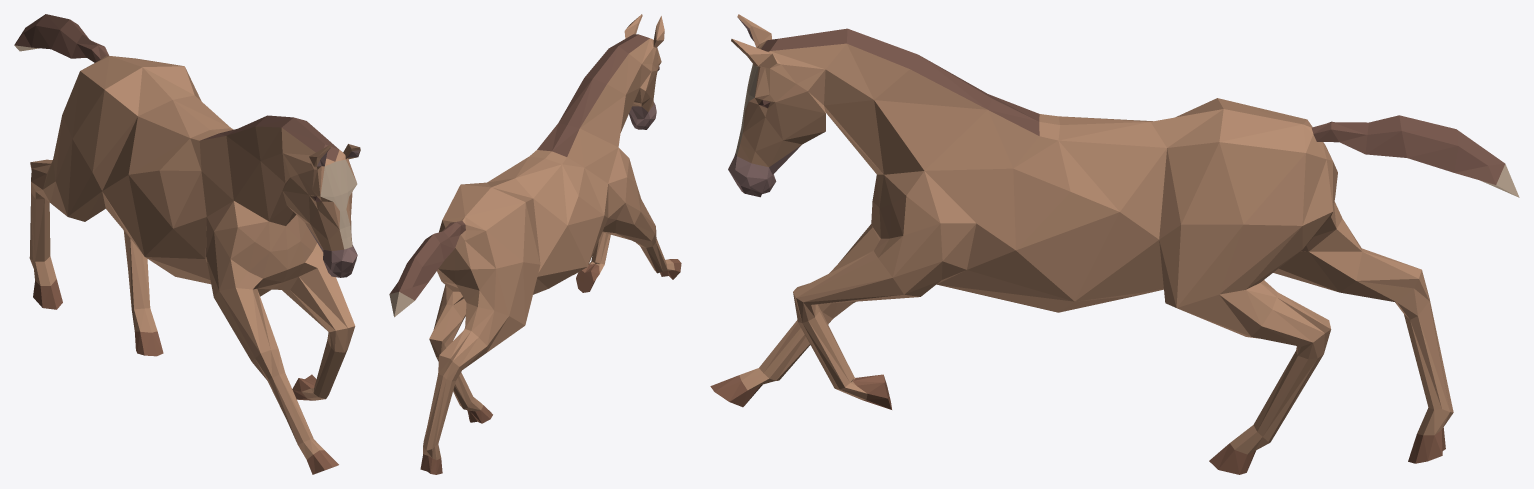
Rendered from asset.glb.
3 renders of one model, left to right at view 1: azimuth 30°, elevation 25°; view 2: azimuth 150°, elevation 25°; view 3: azimuth 270°, elevation 25°, orthographic. The views are drawn at different scales.
Visible parts, largest first — view 1: mesh_0; view 2: mesh_0; view 3: mesh_0.
Boxes of the visible parts, box(x1,y1,x2,y2) form: mesh_0: box(14, 14, 360, 474); mesh_0: box(389, 14, 681, 474); mesh_0: box(710, 14, 1519, 474).
Bounding box in the file's own units: 60.31 × 175 × 288.
